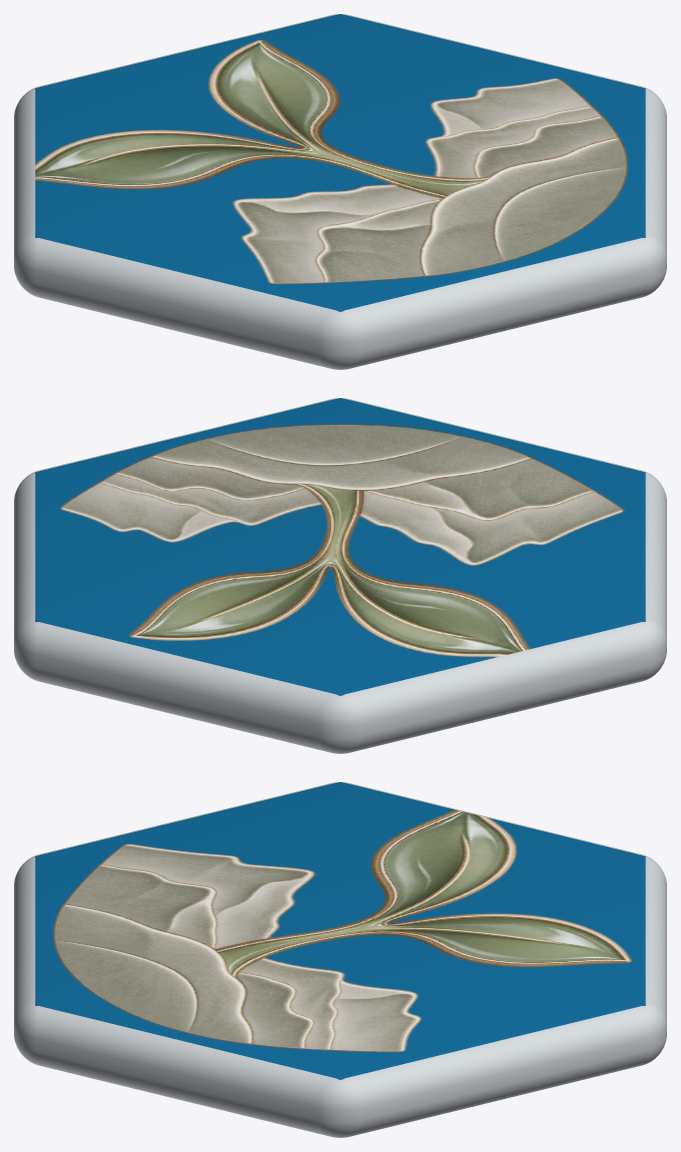
Rendered from first-item.glb.
The picture shows the model from 3 angles, top to bottom: view 1: azimuth 30°, elevation 25°; view 2: azimuth 150°, elevation 25°; view 3: azimuth 270°, elevation 25°; orthographic projection.
Visible parts, largest first — view 1: Unified first-item medal body; view 2: Unified first-item medal body; view 3: Unified first-item medal body.
Part boxes in pixels (x1,y1,x2,y2): Unified first-item medal body: (14, 14, 666, 369); Unified first-item medal body: (14, 398, 666, 753); Unified first-item medal body: (14, 782, 666, 1137).
Bounding box in the file's own units: 3.38 × 0.3 × 2.98.
Materials: 3 (1 with a texture image).
